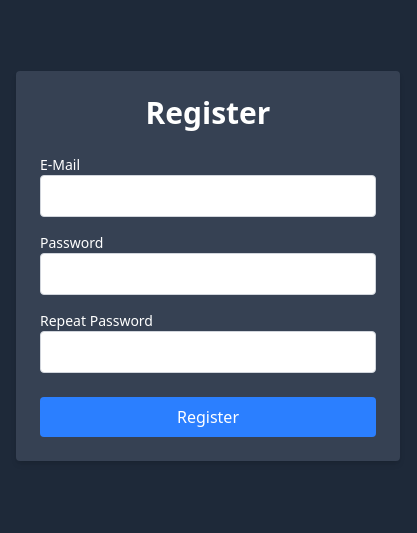
Register Component › handles registration failure correctly
// Fill form
Type "existing@example.com" into the field labelled "E-Mail" at (208, 196), box left=40, top=175, right=376, bottom=217
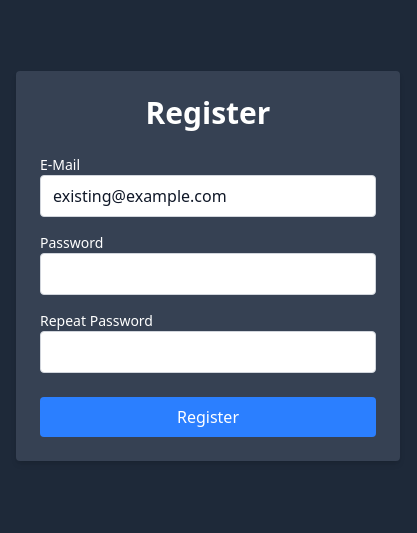
Type "password123" into the password field labelled "Password" at (208, 274), box left=40, top=253, right=376, bottom=295
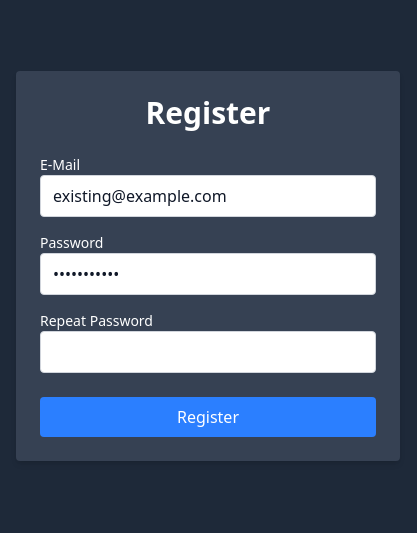
Type "password123" into the password field labelled "Repeat Password" at (208, 352), box left=40, top=331, right=376, bottom=373
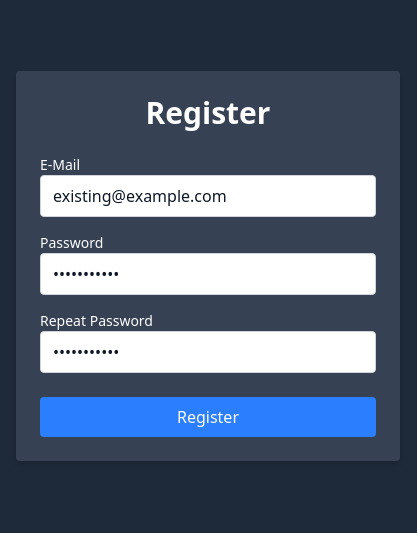
// Submit form
Click the button "Register" at (208, 417), box left=40, top=397, right=376, bottom=437
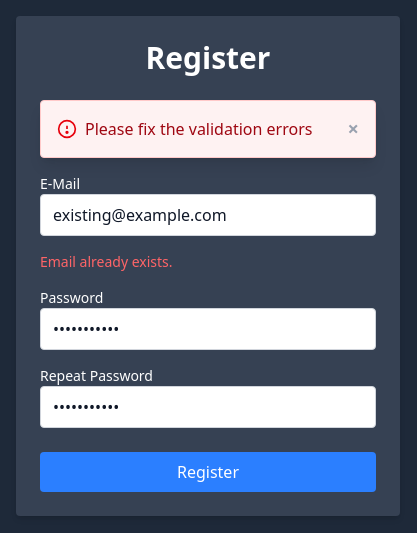
Check: the text "Email already exists." is shown, box left=40, top=252, right=173, bottom=271
